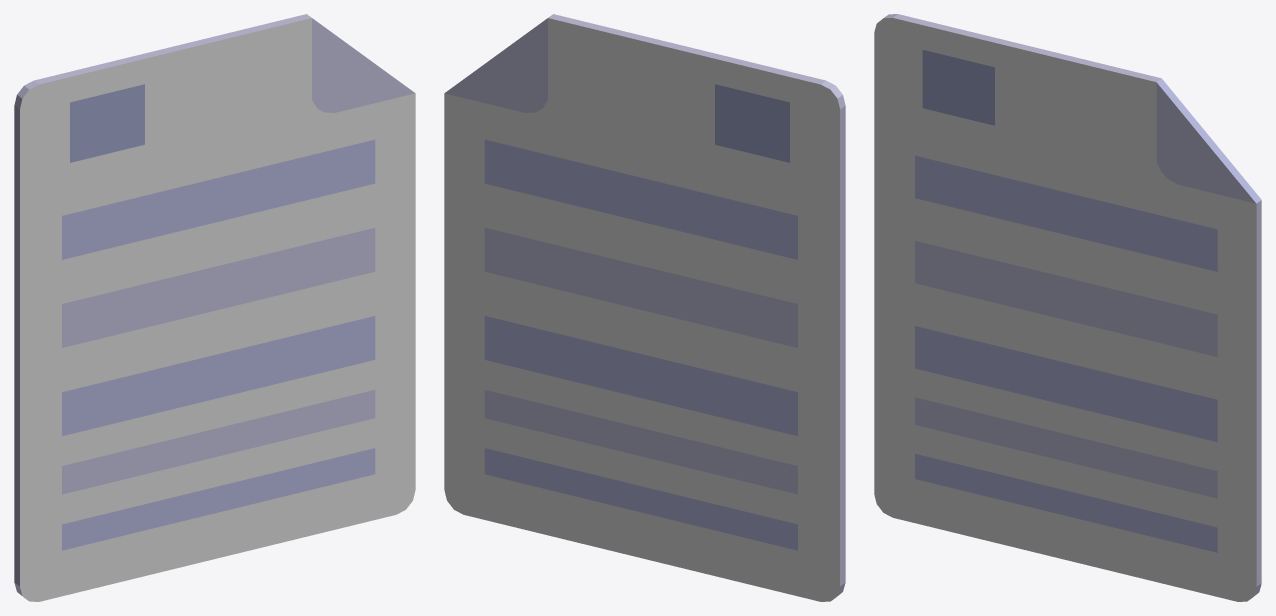
File: Prop_Document_01.fbx
3 renders of one model, left to right at view 1: azimuth 30°, elevation 25°; view 2: azimuth 150°, elevation 25°; view 3: azimuth 330°, elevation 25°, orthographic. The views are drawn at different scales.
Visible parts, largest first — view 1: Document; view 2: Document; view 3: Document.
Boxes of the visible parts, x1,y1,x2,y2 form: Document: [14, 14, 415, 601]; Document: [444, 14, 845, 601]; Document: [874, 14, 1261, 601].
Bounding box in the file's own units: 123 × 154 × 2.95.
